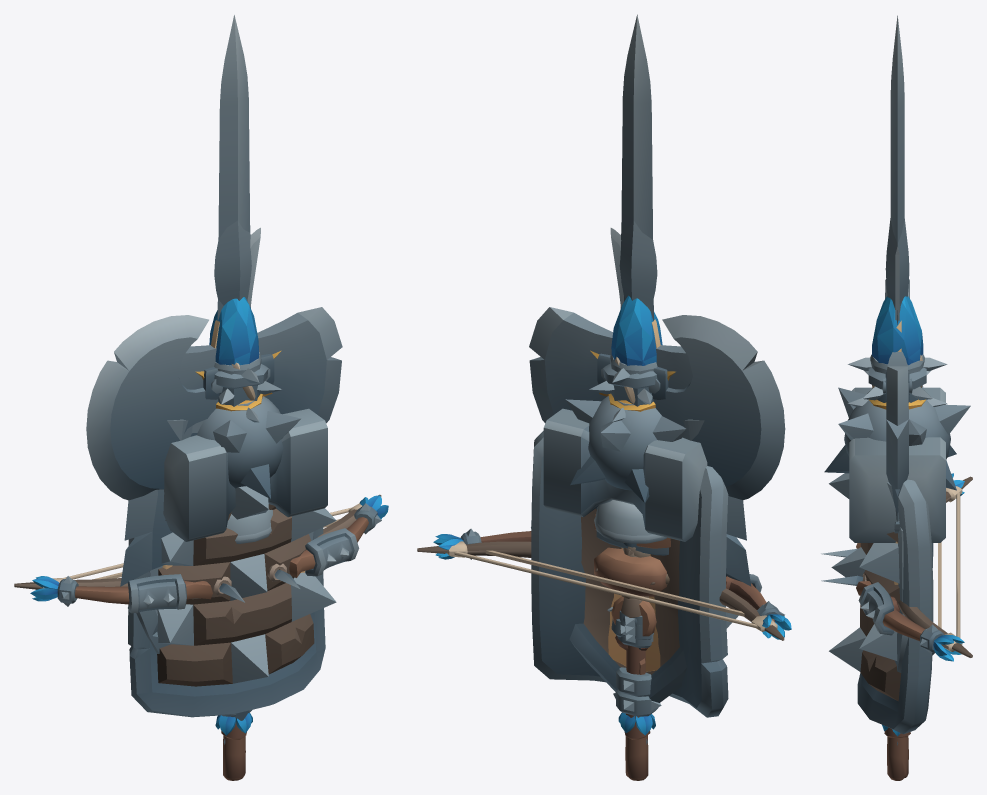
The model's file is kk-weapons.glb.
The picture shows the model from 3 angles, left to right: view 1: azimuth 30°, elevation 25°; view 2: azimuth 150°, elevation 25°; view 3: azimuth 270°, elevation 25°; orthographic projection.
Visible parts, largest first — view 1: shield_C, halberd, hammer_A, axe_B, bow_B_withString, sword_E, hammer_B, axe_C, staff_B, spear_A, bow_A_withString, hammer_C (+3 smaller); view 2: shield_C, halberd, hammer_A, axe_B, shield_B, hammer_B, sword_E, spear_A, bow_B_withString, bow_A_withString, staff_B, axe_C (+5 smaller); view 3: shield_C, hammer_A, hammer_B, bow_B_withString, axe_B, staff_B, sword_E, bow_A_withString, spear_A, hammer_C, staff_A, halberd (+2 smaller).
Part boxes in pixels (x1,y1,x2,y2): shield_C: (128,486,336,717); halberd: (86,315,268,500); hammer_A: (163,408,327,541); axe_B: (178,307,342,436); bow_B_withString: (30,495,388,613); sword_E: (217,15,250,321); hammer_B: (197,396,300,499); axe_C: (120,419,204,586); staff_B: (195,297,281,739); spear_A: (214,220,252,744); bow_A_withString: (14,494,381,589); hammer_C: (214,352,282,422); shield_C: (531,431,738,717); halberd: (603,315,785,696); hammer_A: (543,408,707,598); axe_B: (529,307,692,650); shield_B: (569,508,727,702); hammer_B: (565,396,686,649); sword_E: (596,14,653,509); spear_A: (613,221,661,744); bow_B_withString: (433,527,791,639); bow_A_withString: (417,541,784,640); staff_B: (590,295,675,739); axe_C: (611,419,751,650); shield_C: (829,473,933,734); hammer_A: (849,387,945,542); hammer_B: (824,385,970,490); bow_B_withString: (821,473,964,661); axe_B: (872,351,922,513); staff_B: (869,296,925,737); sword_E: (890,15,904,533); bow_A_withString: (898,476,972,657); spear_A: (882,218,909,745); hammer_C: (848,354,947,407); staff_A: (887,736,908,780); halberd: (868,279,926,402).
Bounding box in the file's own units: 1.96 × 3.9 × 0.7072.
Materials: 1 (1 with a texture image).
